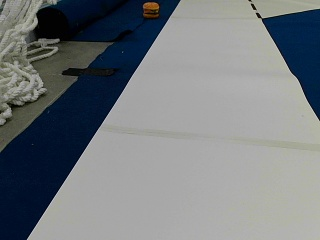burger: (142, 0, 160, 18)
